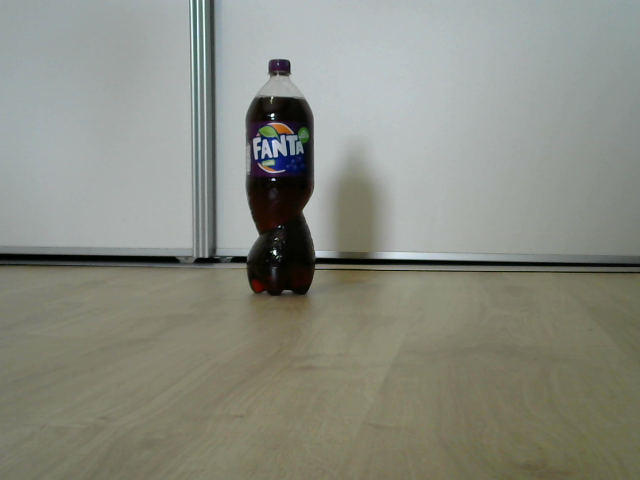bottle: (244, 58, 316, 296)
